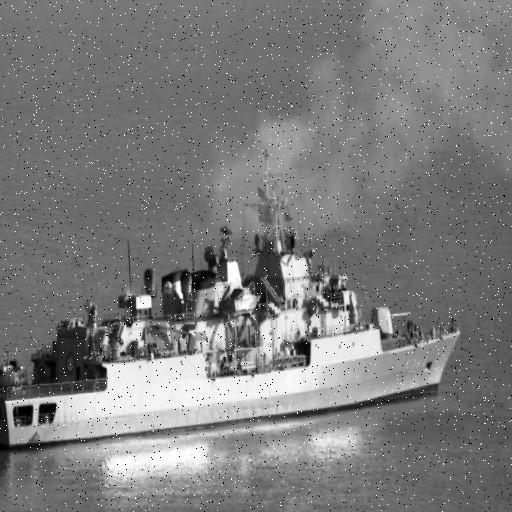Fragata: (1, 152, 462, 454)
